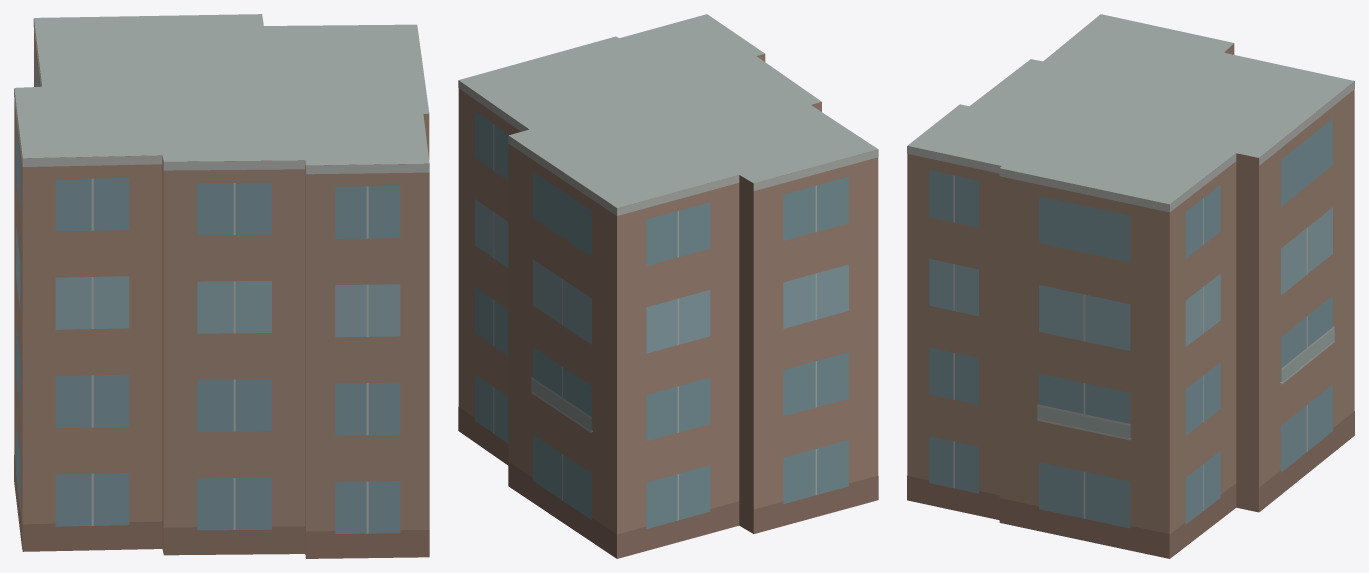
The model's file is survey-upis-32722698.glb.
3 renders of one model, left to right at view 1: azimuth 30°, elevation 25°; view 2: azimuth 150°, elevation 25°; view 3: azimuth 270°, elevation 25°, orthographic. The views are drawn at different scales.
Parts seen in each view (by area): view 1: survey-upis-32722698.tmp; view 2: survey-upis-32722698.tmp; view 3: survey-upis-32722698.tmp.
Boxes of the visible parts, box(x1,y1,x2,y2) form: survey-upis-32722698.tmp: box(14, 14, 429, 558); survey-upis-32722698.tmp: box(458, 14, 878, 558); survey-upis-32722698.tmp: box(907, 14, 1354, 558).
Size of the model in its own units: 12.41 by 10.77 by 12.33.
